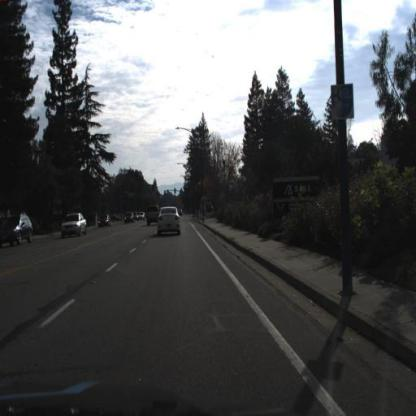car: (1, 215, 35, 249), (61, 211, 88, 240), (158, 206, 183, 236), (147, 205, 161, 228), (97, 212, 113, 230), (99, 213, 113, 229)
